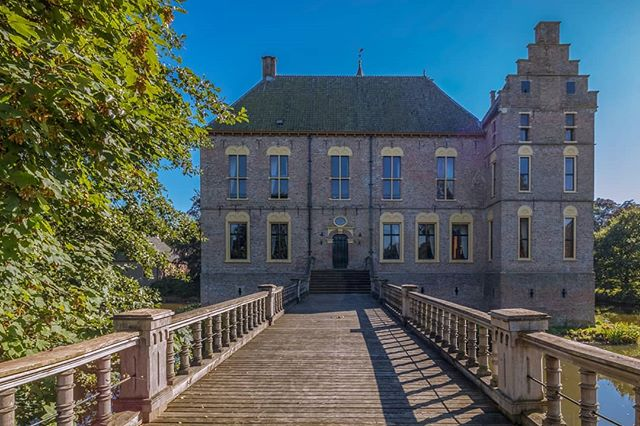building: (198, 15, 597, 307)
tree: (1, 1, 180, 315)
